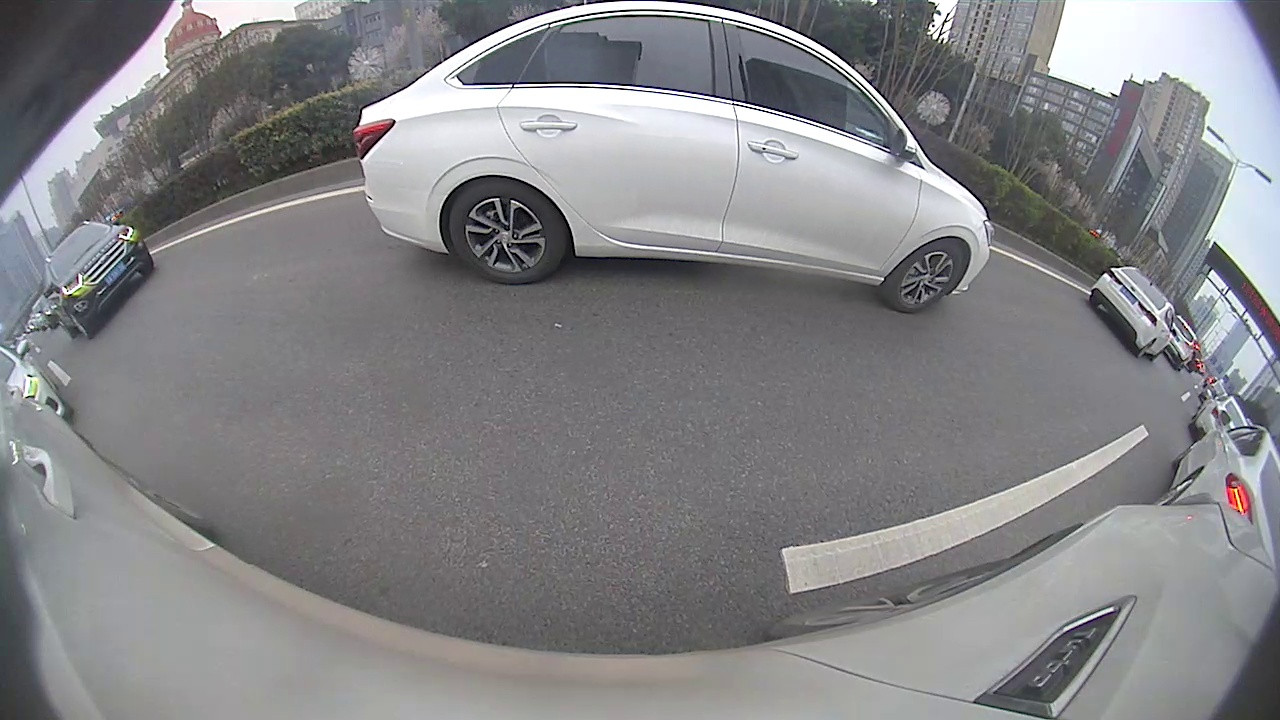car: (348, 2, 995, 314), (1152, 410, 1277, 556), (41, 219, 154, 340), (1088, 265, 1180, 362)
front: (886, 241, 962, 313)
rear: (447, 178, 568, 287)
